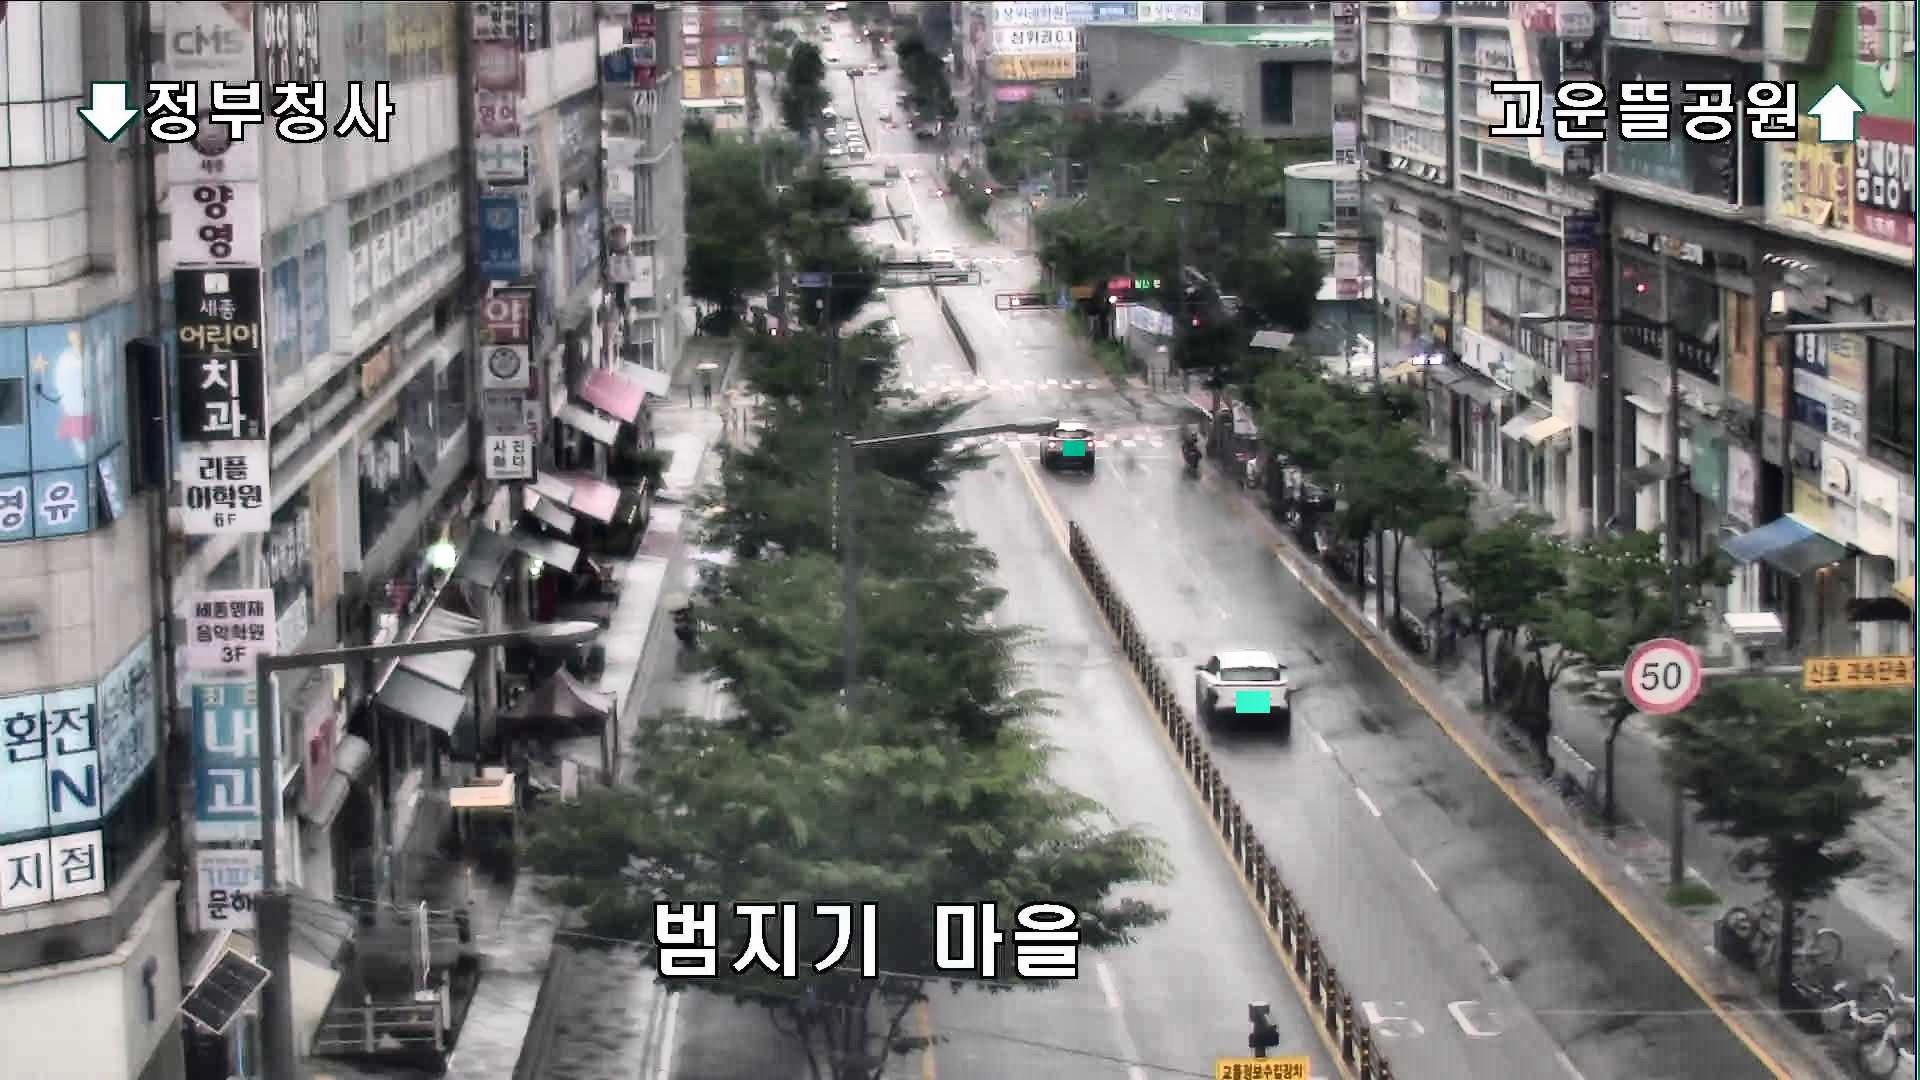um_sidewalk: (694, 363, 717, 405), (713, 405, 732, 436), (721, 392, 735, 427), (692, 305, 705, 340)
